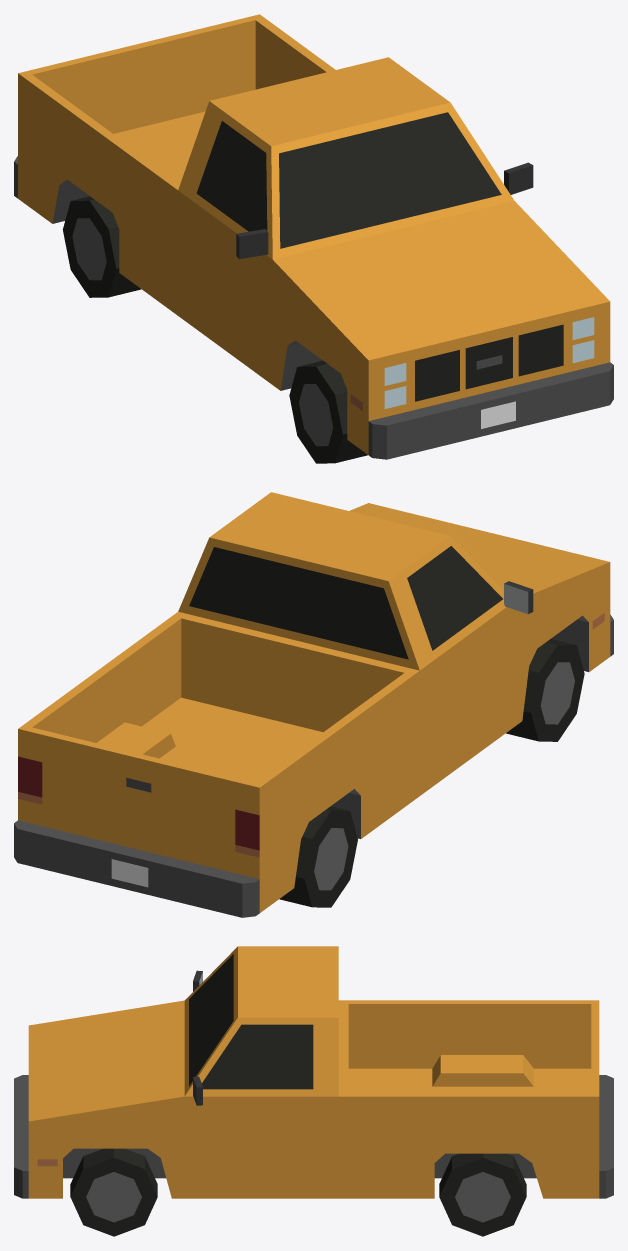
Rendered from Veh_Pickup_02_Yellow.glb.
The picture shows the model from 3 angles, top to bottom: view 1: azimuth 30°, elevation 25°; view 2: azimuth 150°, elevation 25°; view 3: azimuth 270°, elevation 25°; orthographic projection. The views are drawn at different scales.
Parts seen in each view (by area): view 1: Pickup_02_Yellow, Wheel_FR, Wheel_RR; view 2: Pickup_02_Yellow, Wheel_FR, Wheel_RR; view 3: Pickup_02_Yellow, Wheel_FL, Wheel_RL.
Boxes of the visible parts, x1,y1,x2,y2 form: Pickup_02_Yellow: (14,14,613,459); Wheel_FR: (289,360,367,463); Wheel_RR: (62,196,141,297); Pickup_02_Yellow: (14,492,613,917); Wheel_FR: (506,639,584,741); Wheel_RR: (279,806,357,907); Pickup_02_Yellow: (14,946,613,1198); Wheel_FL: (70,1148,157,1236); Wheel_RL: (439,1153,526,1236).
Size of the model in its own units: 1.43 by 1.18 by 3.11.
Materials: 1 (1 with a texture image).
